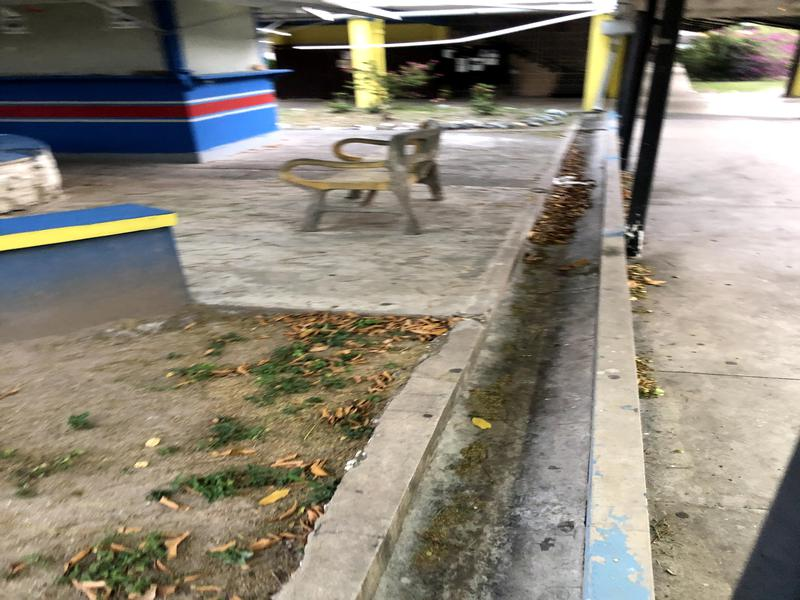18.0050864_-76.7496363_bench: (279, 118, 454, 268)
